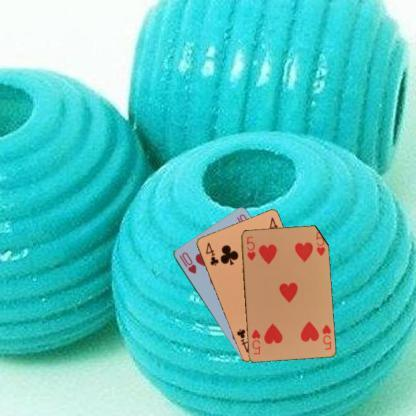10h: (176, 250, 198, 275)
4c: (203, 240, 221, 267)
5h: (318, 322, 332, 351), (244, 234, 256, 262)
